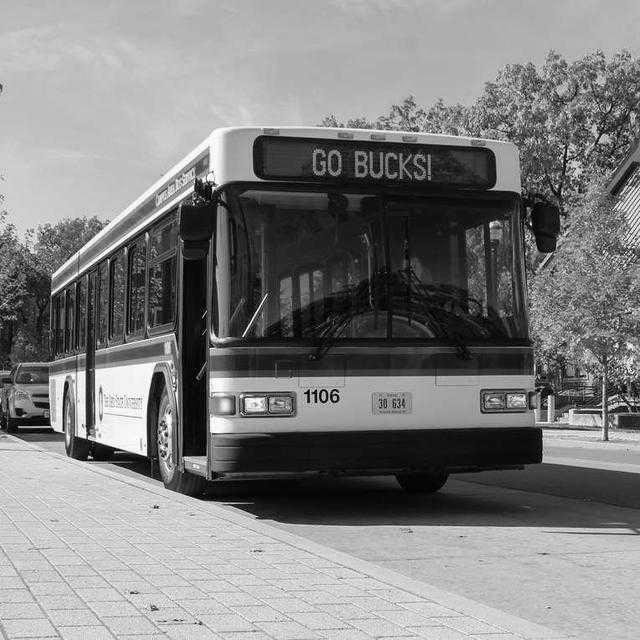Bus: (50, 126, 541, 491)
Car: (0, 362, 49, 430)
